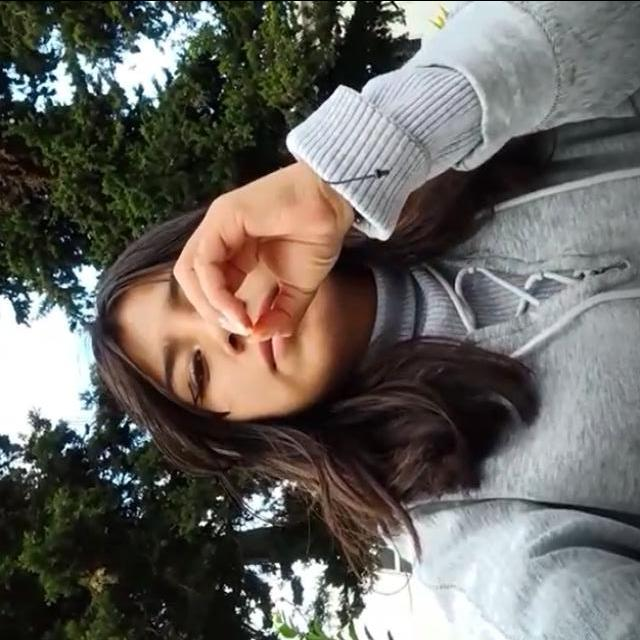O: (157, 171, 387, 363)
